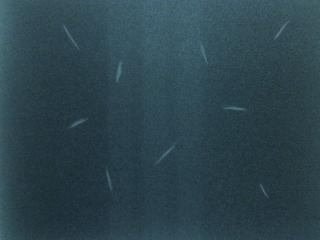scratch: (147, 138, 184, 169), (98, 161, 123, 197), (61, 111, 95, 134), (60, 20, 83, 53), (109, 52, 130, 87), (270, 13, 292, 45), (250, 178, 277, 202), (217, 99, 250, 116), (194, 41, 215, 67)
